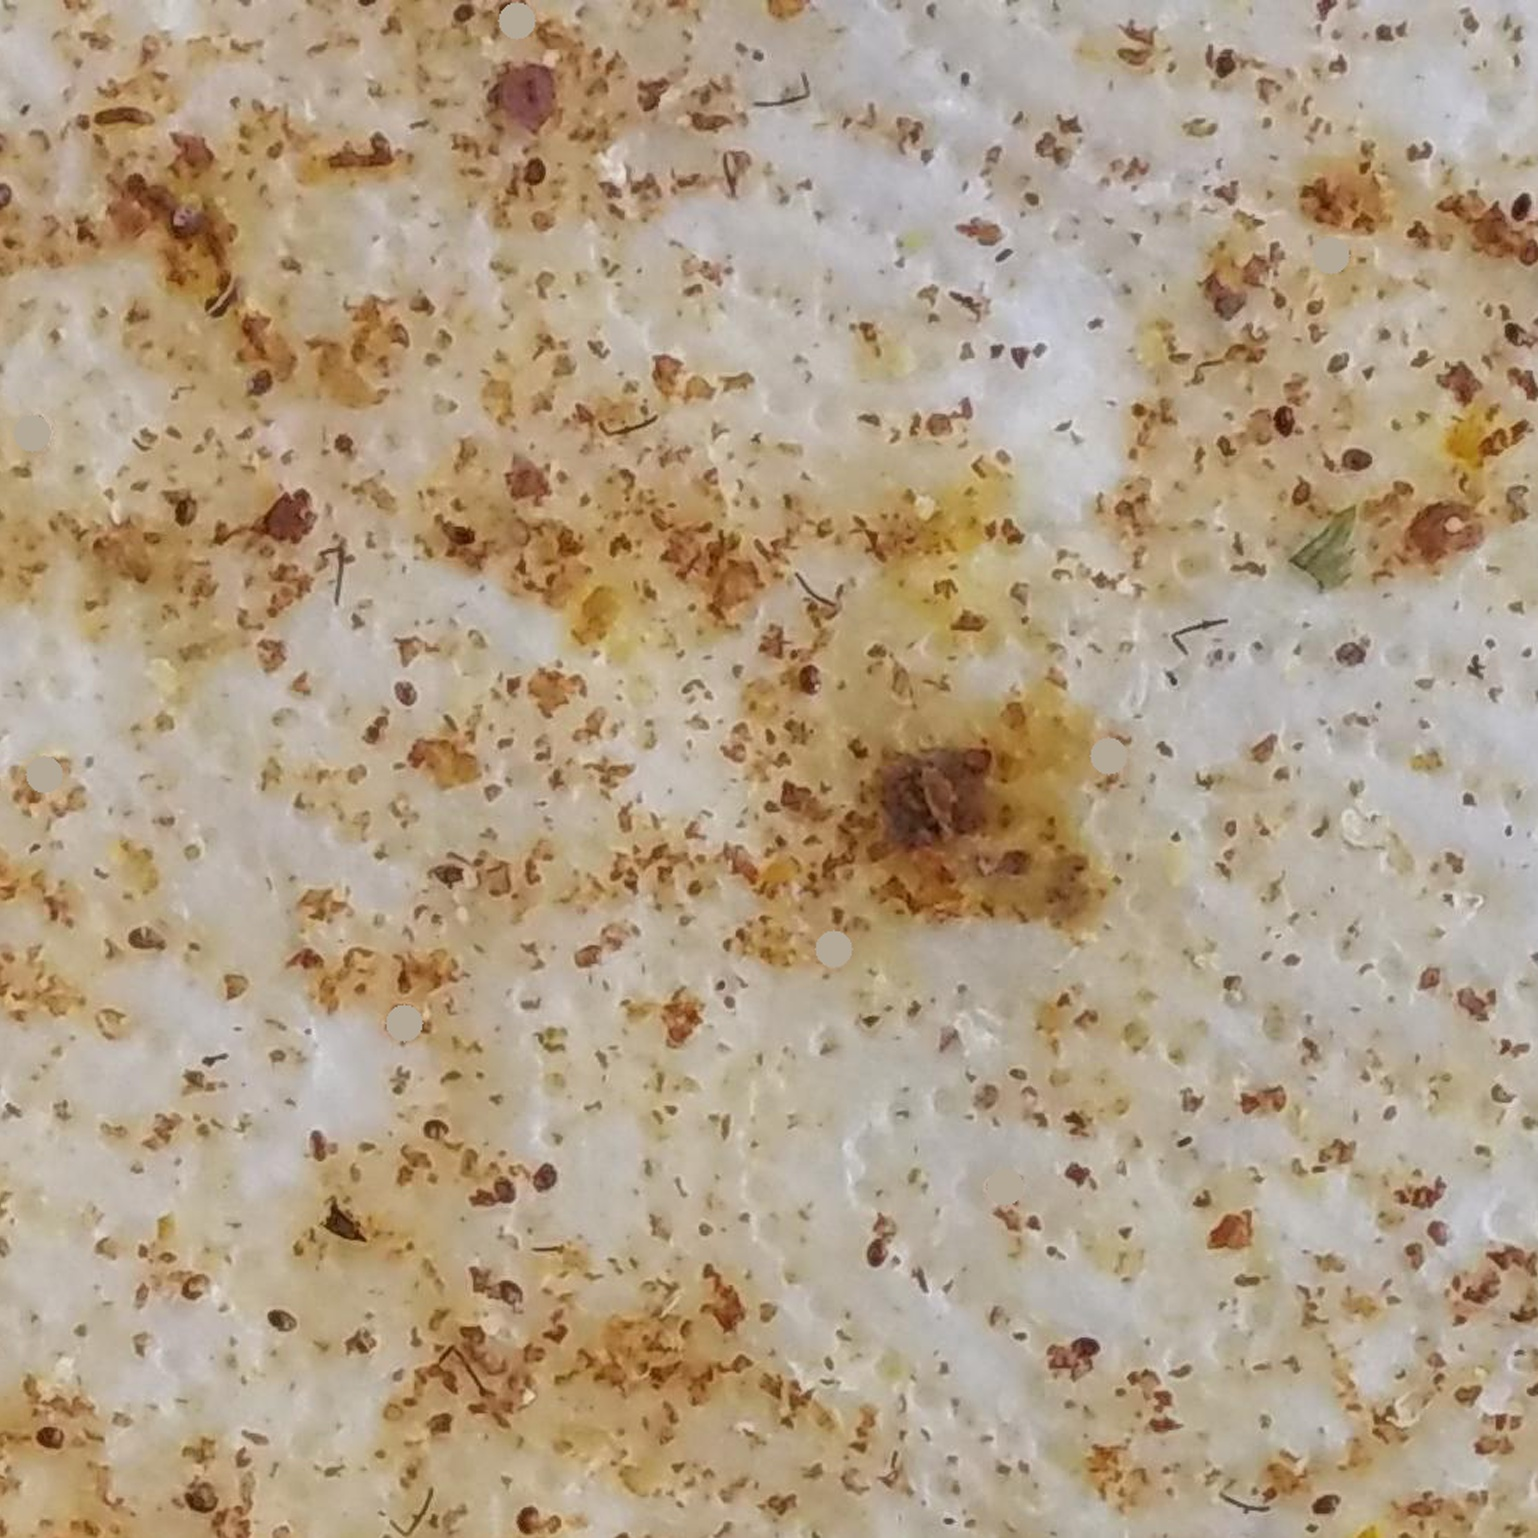Varroa: (127, 923, 163, 958), (1337, 634, 1369, 666), (493, 1279, 525, 1311), (1424, 1215, 1456, 1248), (1499, 315, 1530, 348), (477, 1187, 508, 1220), (32, 1420, 63, 1451), (570, 937, 600, 968), (389, 675, 418, 706), (448, 6, 477, 37), (296, 1132, 325, 1162), (1266, 408, 1294, 439), (424, 1108, 452, 1138), (794, 665, 824, 693), (1310, 1496, 1338, 1525), (1066, 1337, 1094, 1365), (418, 1128, 446, 1155), (861, 1237, 887, 1263), (268, 1306, 293, 1332), (534, 1161, 559, 1187), (248, 369, 275, 394), (1341, 446, 1368, 472), (182, 1273, 207, 1300), (521, 156, 546, 183), (496, 1182, 521, 1207), (1299, 483, 1321, 508)
